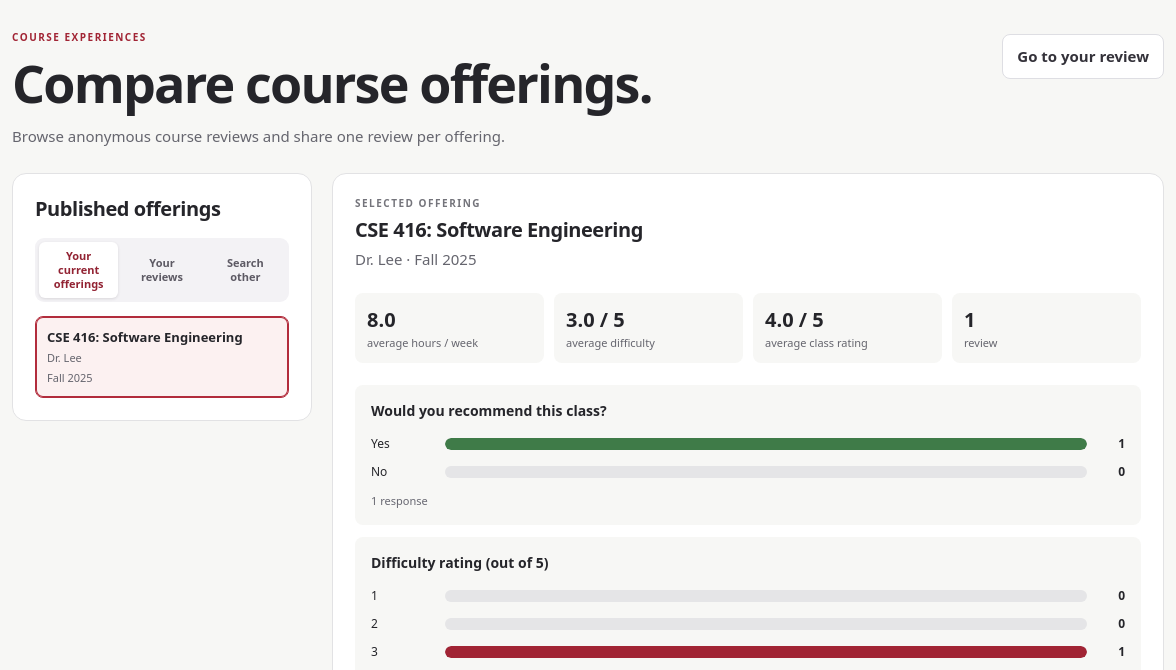
Test: loads persisted anonymous reviews and selects offering-specific review keys
Click the tab "Search other" at (245, 270), box [206,242,285,298]
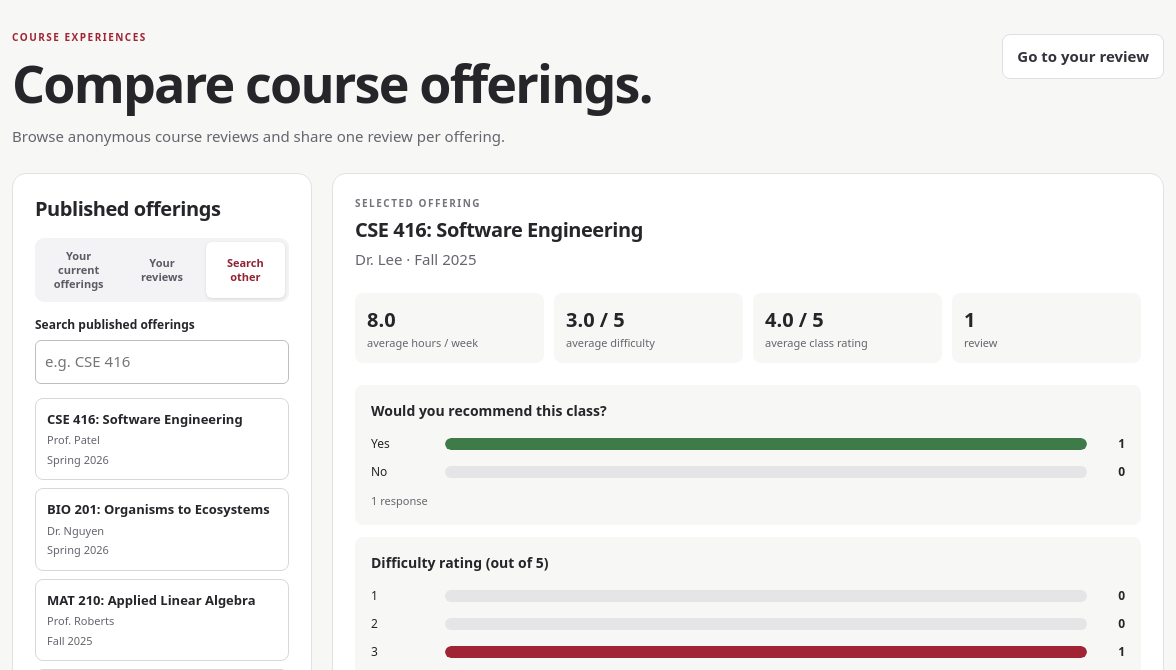
Click the button "CSE 416: Software Engineering Prof. Patel Spring 2026" at (162, 439), box [35,398,289,480]
(page scrolled)
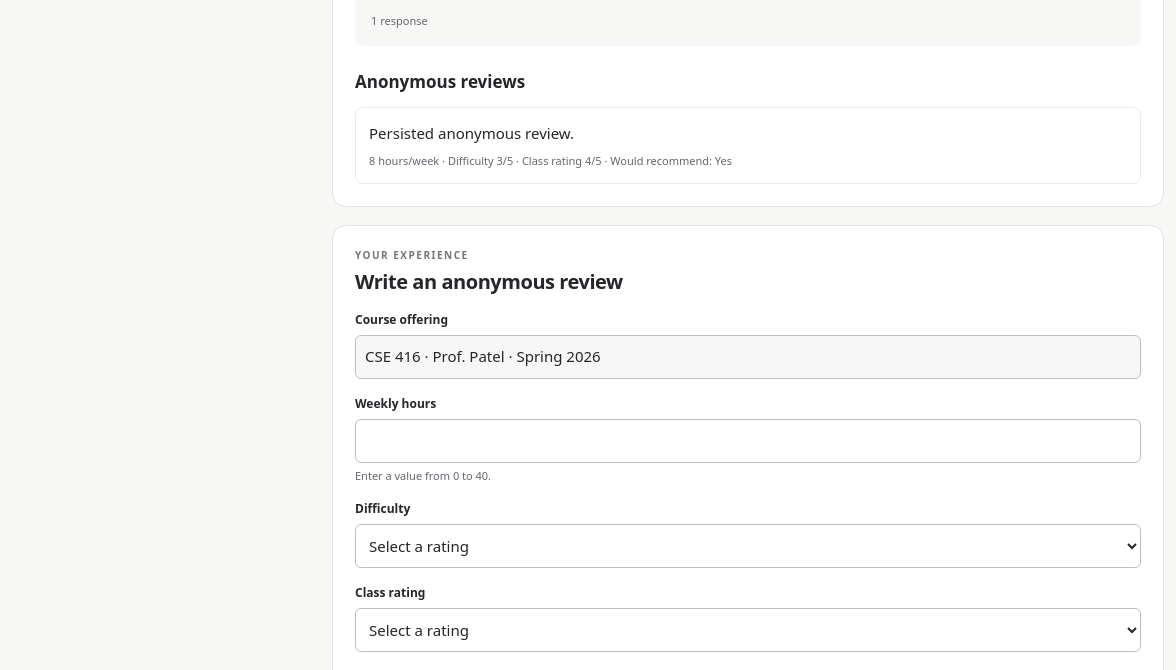
Expected: the text "CSE 416 · Prof. Patel · Spring 2026" is shown, [355,335,1141,379]
